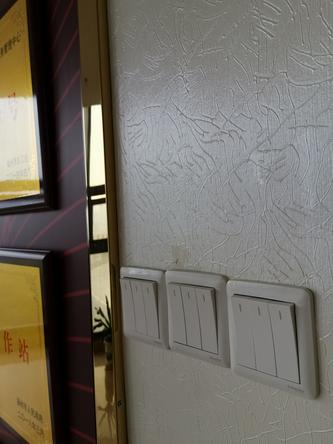switch: (265, 295, 304, 385), (248, 294, 281, 376), (229, 291, 261, 371), (193, 282, 223, 354), (177, 281, 206, 351), (167, 281, 189, 347), (141, 277, 162, 338), (129, 275, 150, 335), (118, 275, 137, 334)
